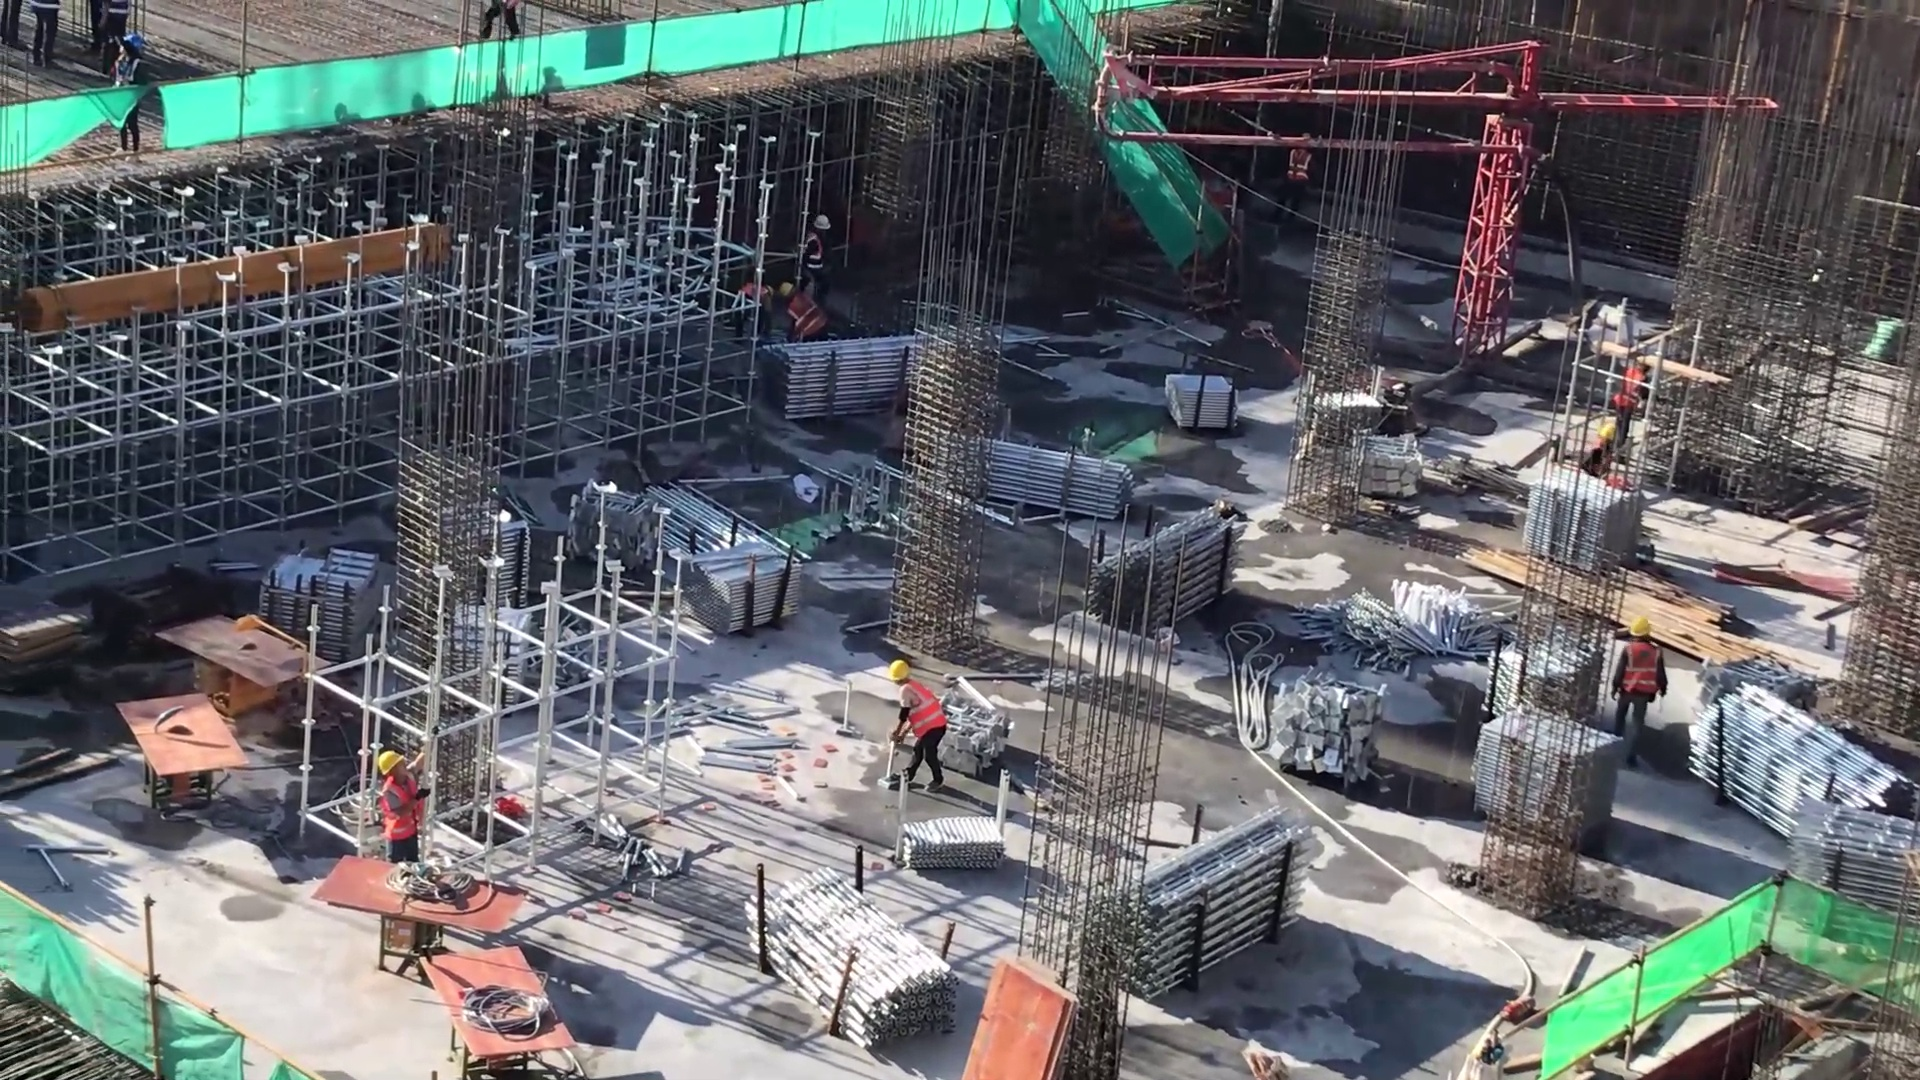board: (950, 945, 1087, 1080)
helmet: (888, 655, 911, 689), (1630, 616, 1656, 642), (376, 749, 405, 771)
person: (888, 662, 952, 795), (1610, 611, 1669, 743), (373, 750, 434, 863), (109, 38, 151, 158), (782, 282, 828, 353), (802, 215, 840, 287)
scaffold: (1083, 798, 1322, 998), (736, 851, 963, 1049), (1673, 677, 1920, 847), (1075, 492, 1249, 633), (950, 424, 1143, 528), (1777, 787, 1919, 922), (245, 534, 393, 658), (757, 326, 943, 415), (1520, 457, 1644, 574), (632, 478, 766, 578), (680, 537, 807, 626)
vest: (375, 777, 422, 848), (902, 684, 945, 744)
